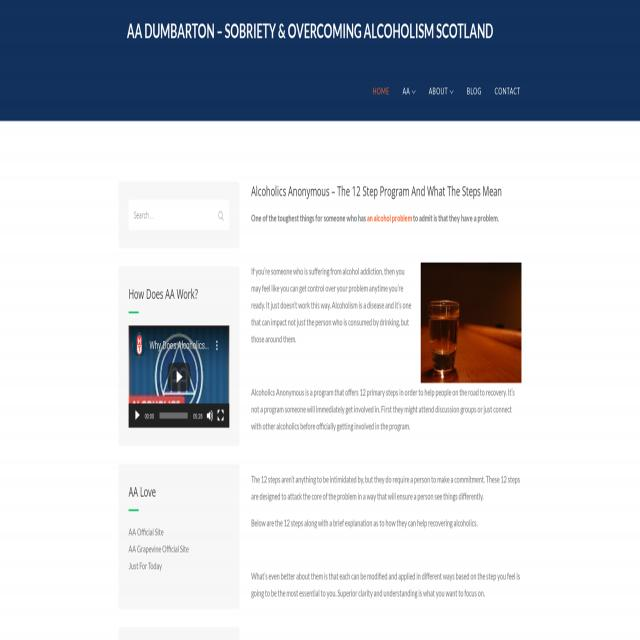button: (421, 262, 521, 383), (129, 325, 230, 427), (419, 60, 460, 121), (488, 61, 526, 121), (366, 61, 396, 121), (460, 61, 488, 121), (397, 62, 418, 120), (169, 362, 190, 392), (134, 335, 146, 357), (212, 336, 221, 354), (217, 410, 224, 421), (134, 410, 140, 421), (207, 410, 213, 421), (218, 211, 224, 221)
field: (129, 199, 229, 230)
